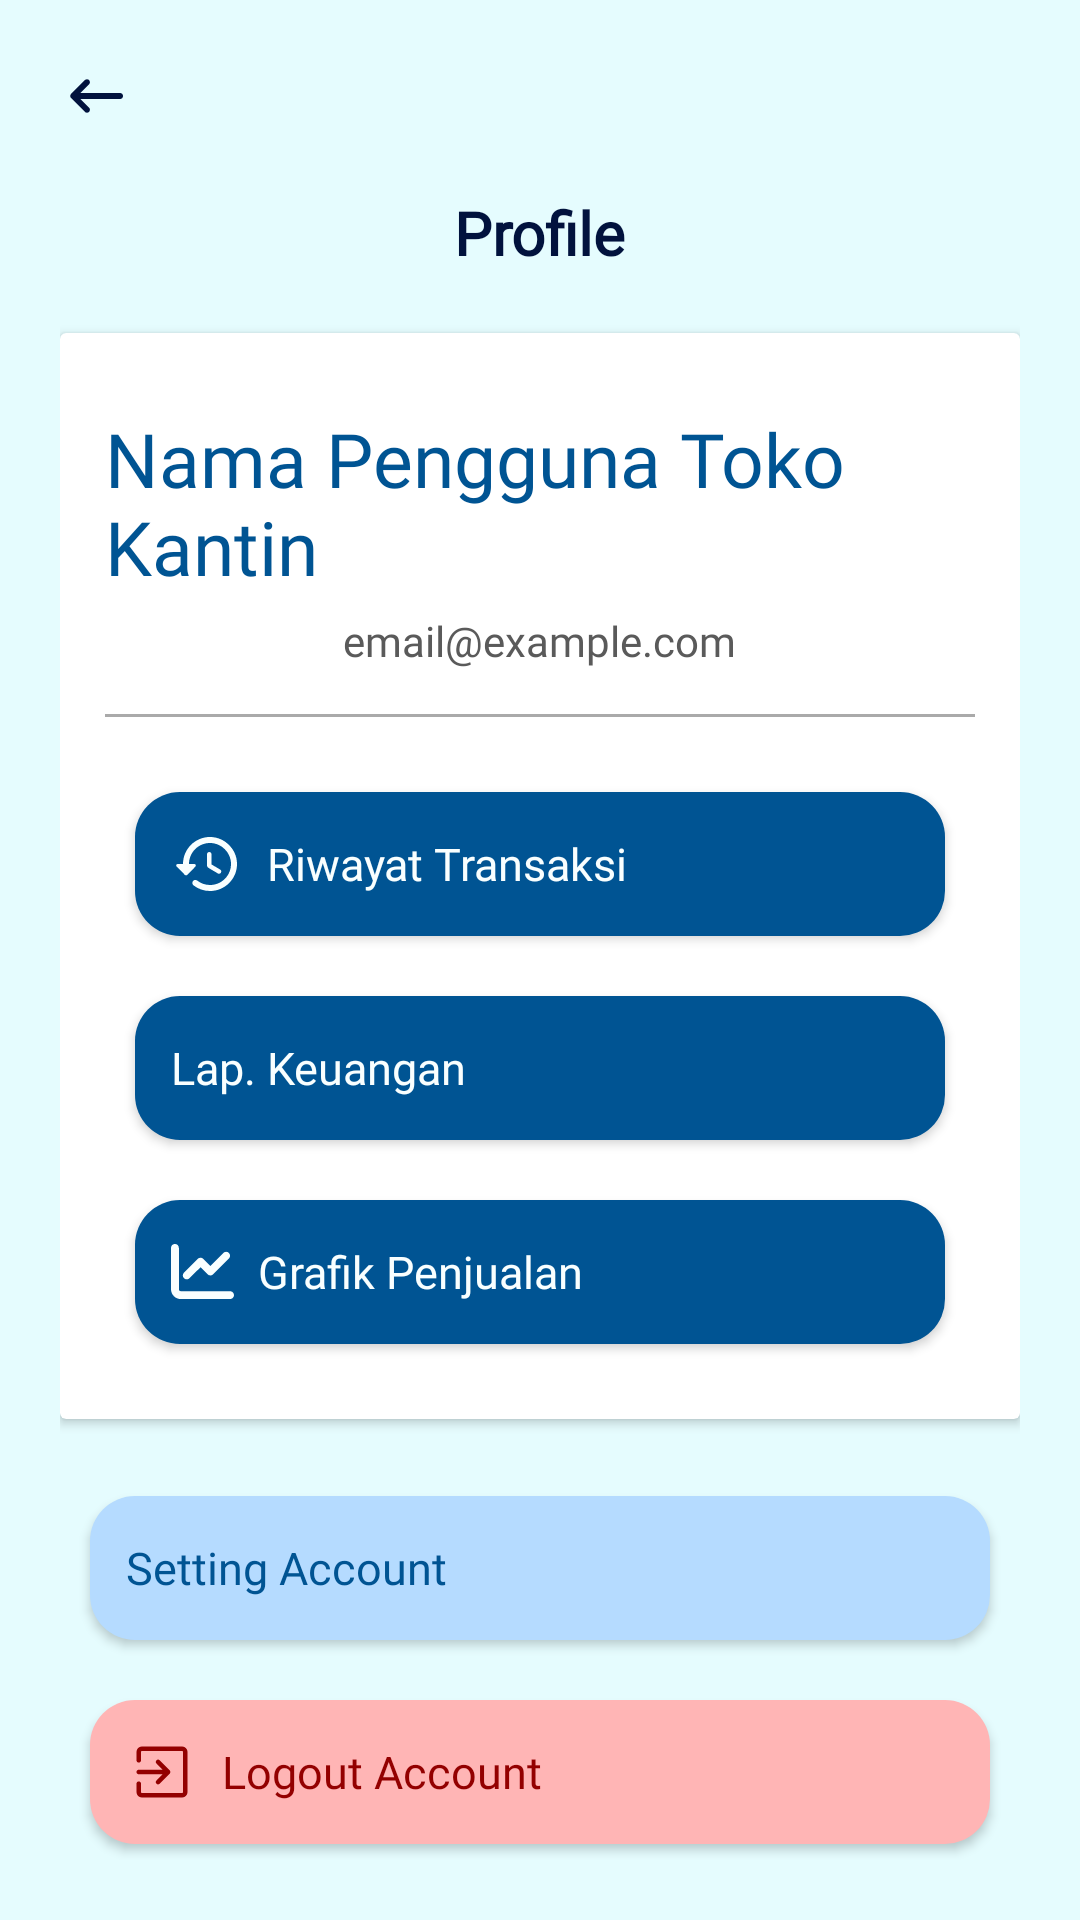

Screen size 1080 x 1920. Icon name, then its box in pixels as [x1=x1, y1=y1, x2=x2, y2=y2]:
back: [x1=70, y1=79, x2=123, y2=113]
